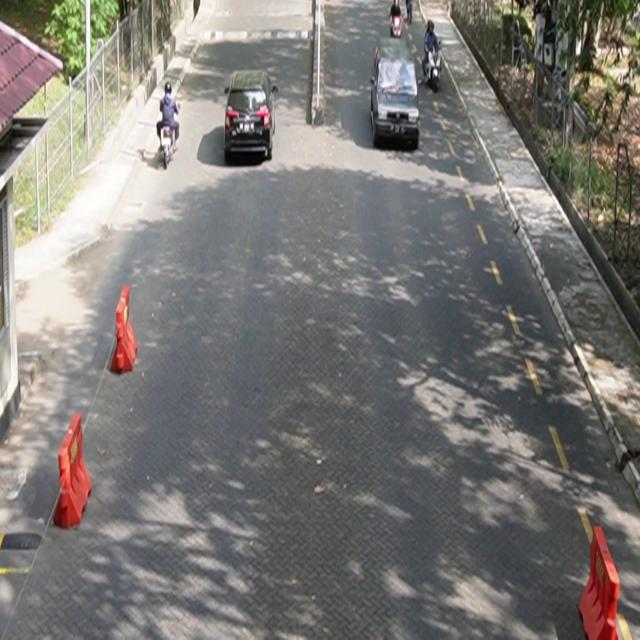car: (371, 38, 422, 151), (224, 70, 280, 162)
